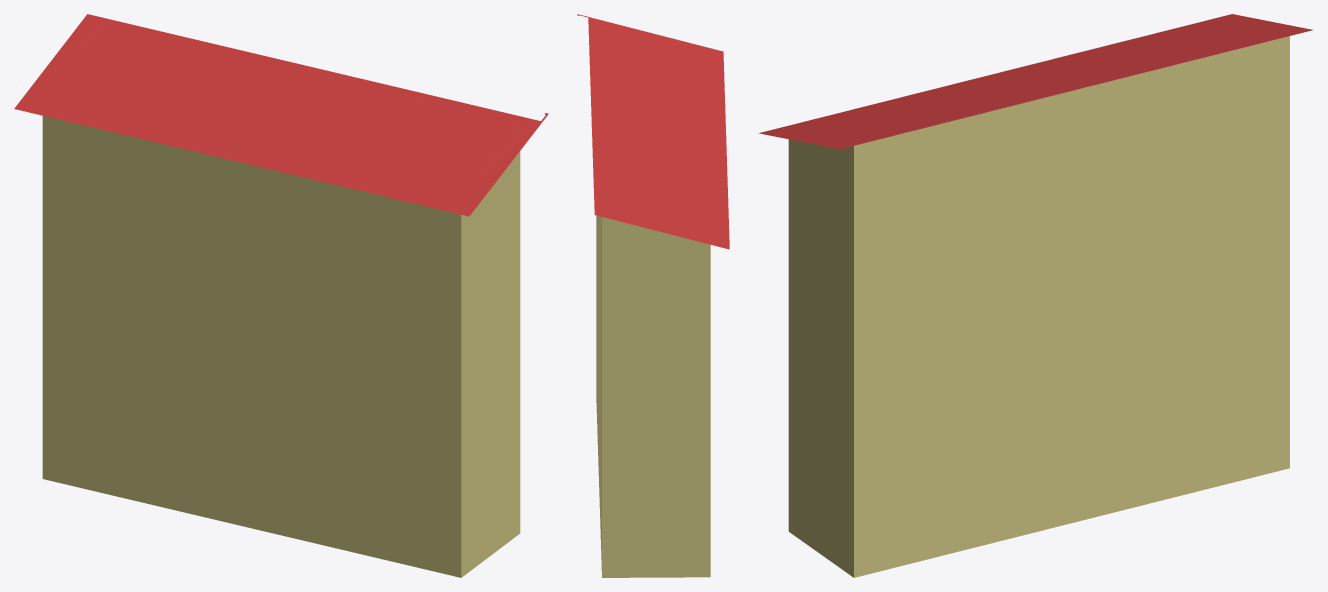
3 renders of one model, left to right at view 1: azimuth 30°, elevation 25°; view 2: azimuth 150°, elevation 25°; view 3: azimuth 270°, elevation 25°, orthographic. The views are drawn at different scales.
Bounding box in the file's own units: 4.85 × 6.26 × 5.47.
